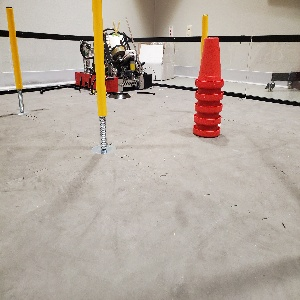Red_5: (193, 32, 226, 142)
